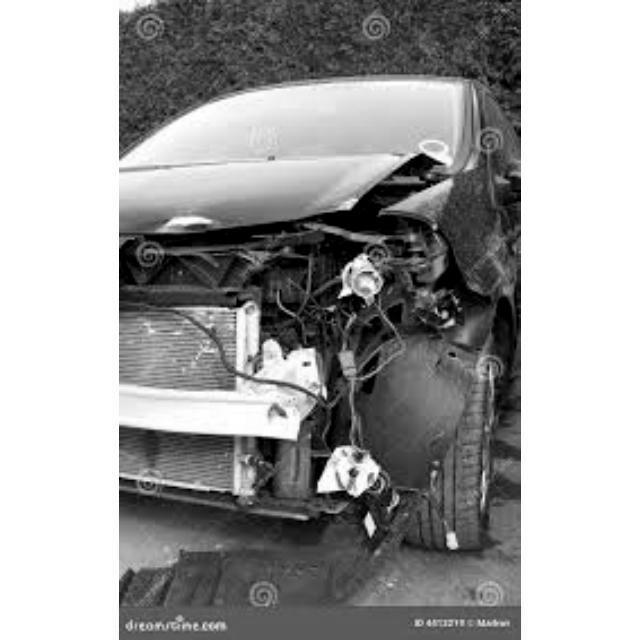Headlight-damage: (252, 241, 448, 332)
bonnet-dent: (119, 153, 441, 269)
front-bumper-dent: (119, 348, 465, 540)
